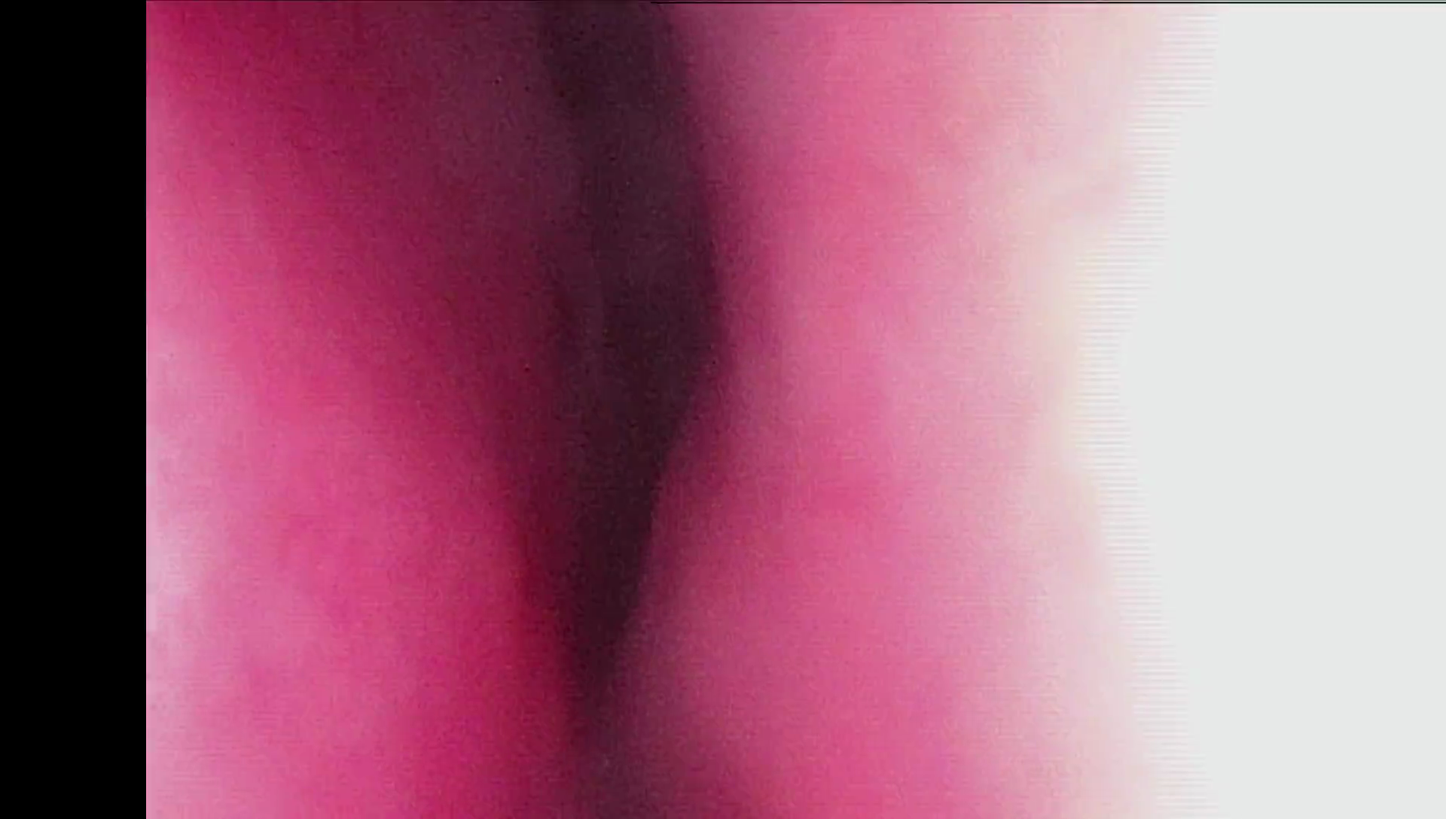close_wall: (839, 11, 1446, 819), (155, 315, 405, 819)
next: (492, 154, 745, 693)
